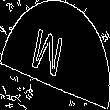M_S: (36, 24, 74, 86)
